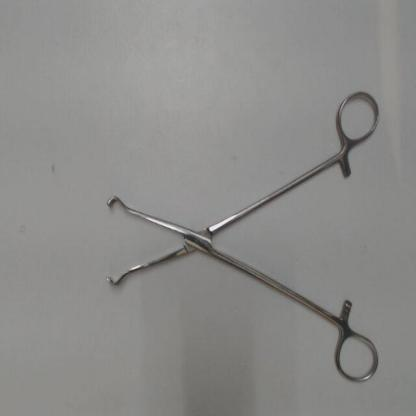8 Babcock Tissue Forceps: (99, 82, 394, 388)
